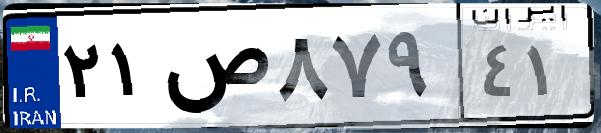1: (525, 38, 570, 115), (110, 28, 158, 98)
2: (57, 26, 110, 100)
4: (475, 38, 525, 113)
7: (330, 28, 385, 110)
8: (270, 28, 330, 110)
9: (385, 28, 445, 110)
ص: (158, 20, 270, 120)
